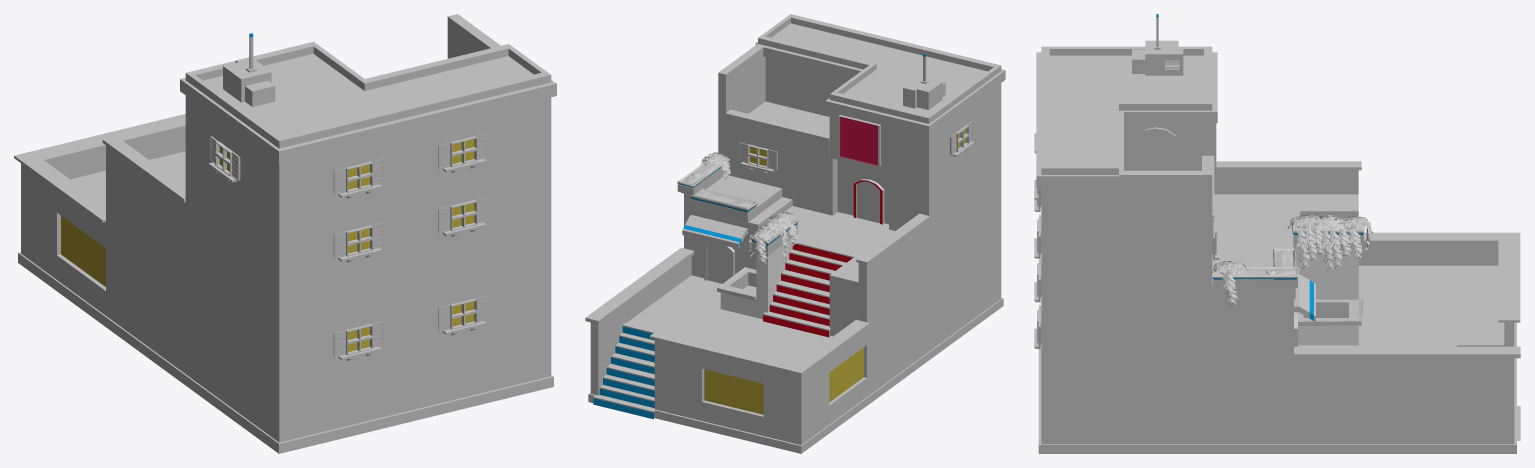
File: Building_Long Test.fbx
The picture shows the model from 3 angles, left to right: view 1: azimuth 30°, elevation 25°; view 2: azimuth 150°, elevation 25°; view 3: azimuth 270°, elevation 25°; orthographic projection. The views are drawn at different scales.
Parts seen in each view (by area): view 1: Double House Platform 01, Windows; view 2: Double House Platform 01, Windows, Planter.009, Planter.010, Other Flower.010, Planter.012; view 3: Double House Platform 01, Ivy03.001, Planter.010, Windows, Other Flower.010, BushesandVine, Planter.012.
Boxes of the visible parts, x1,y1,x2,y2 form: Double House Platform 01: [14, 14, 556, 453]; Windows: [208, 133, 487, 360]; Double House Platform 01: [585, 14, 1005, 453]; Windows: [739, 121, 974, 173]; Planter.009: [689, 188, 758, 222]; Planter.010: [677, 156, 729, 195]; Other Flower.010: [752, 212, 797, 242]; Planter.012: [751, 216, 798, 255]; Double House Platform 01: [1036, 14, 1520, 453]; Ivy03.001: [1295, 226, 1362, 270]; Planter.010: [1211, 267, 1299, 287]; Windows: [1034, 133, 1219, 349]; Other Flower.010: [1288, 215, 1370, 234]; BushesandVine: [1211, 261, 1247, 305]; Planter.012: [1292, 220, 1364, 247].
Bounding box in the file's own units: 1606 × 1915 × 2535.
